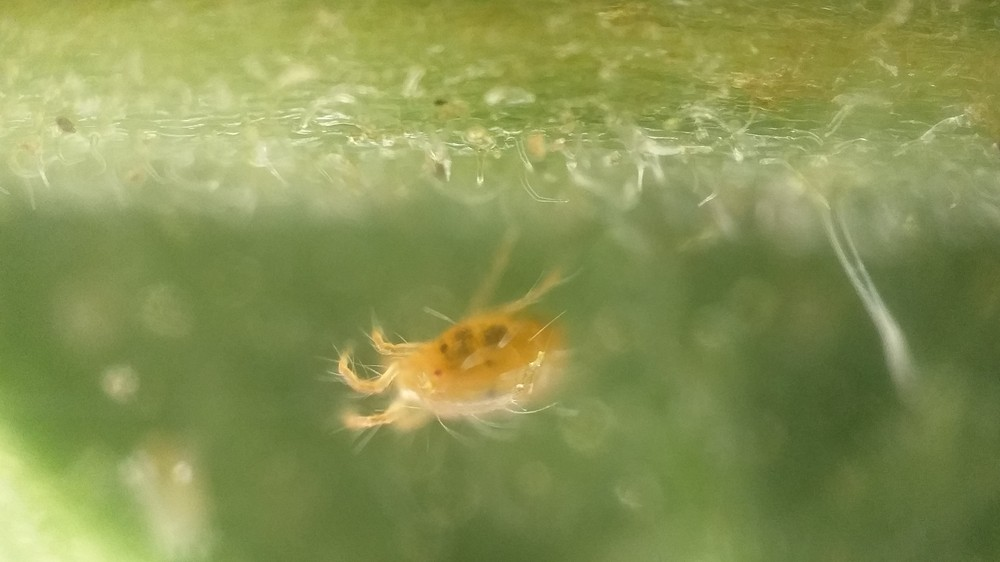Aracnido Rojo: (301, 227, 627, 474)
